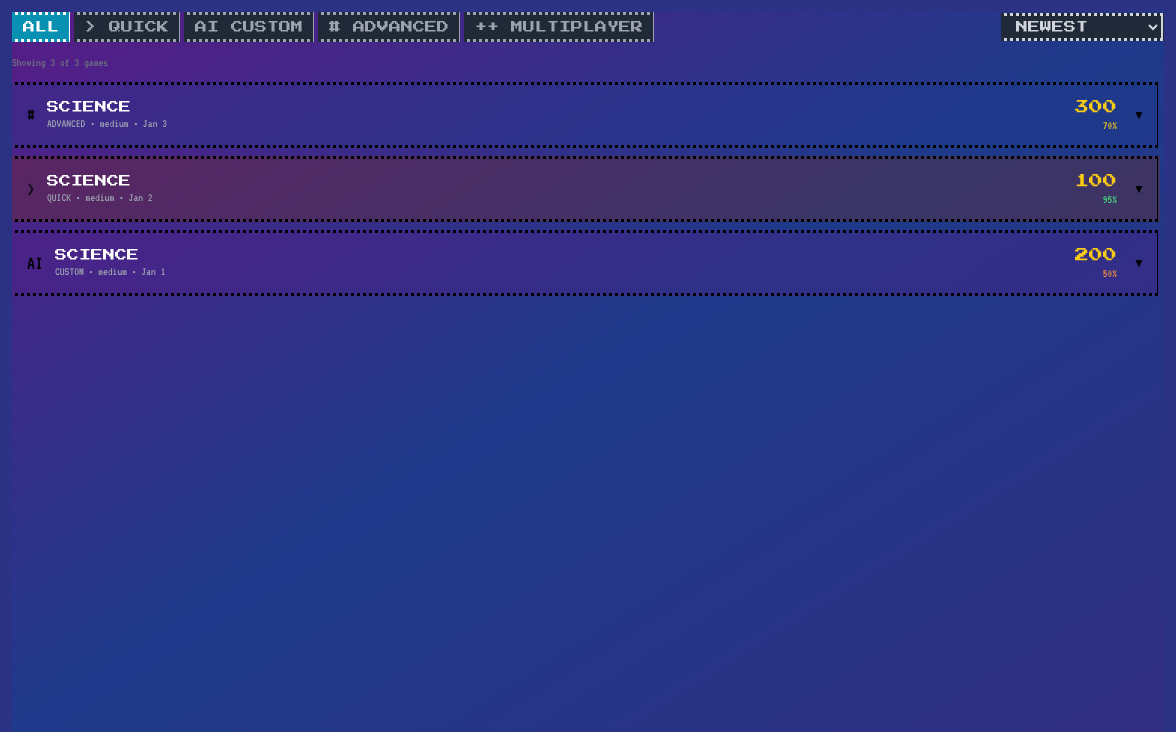
Scenario: GameHistoryList › with entries › shows all when ALL filter selected
Click the button "> QUICK" at (127, 27), box [74,12,180,42]
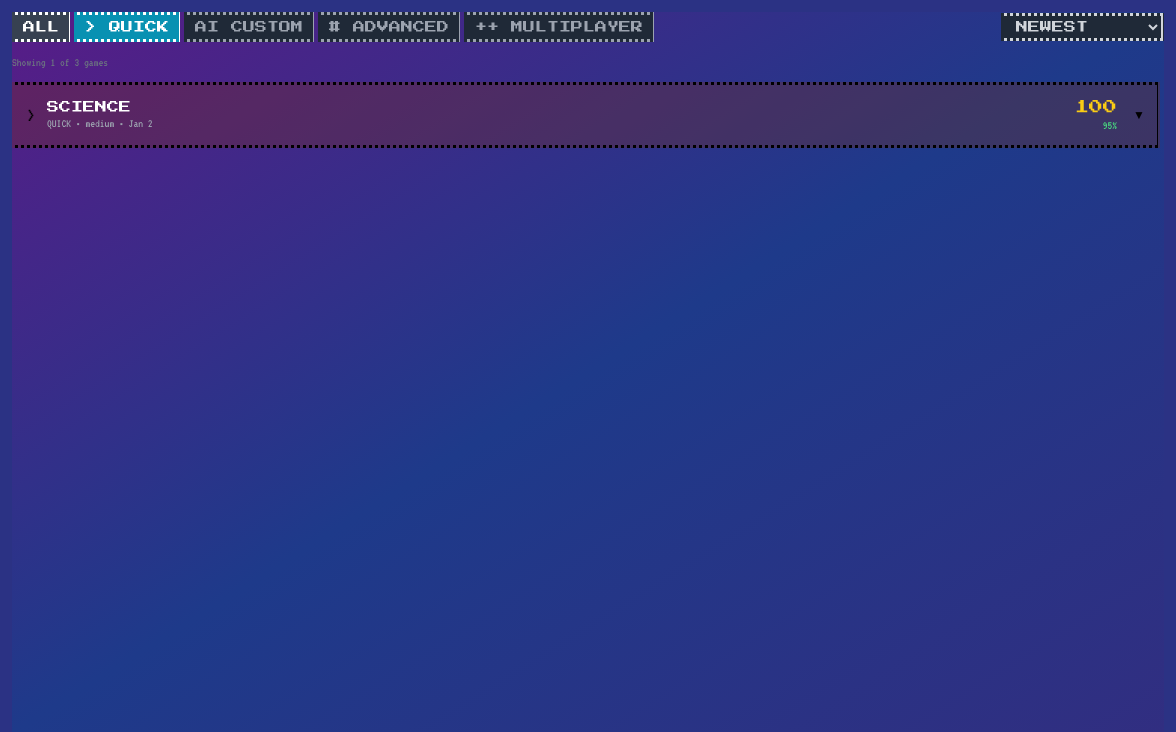
Click the button "ALL" at (41, 27), box [12,12,70,42]
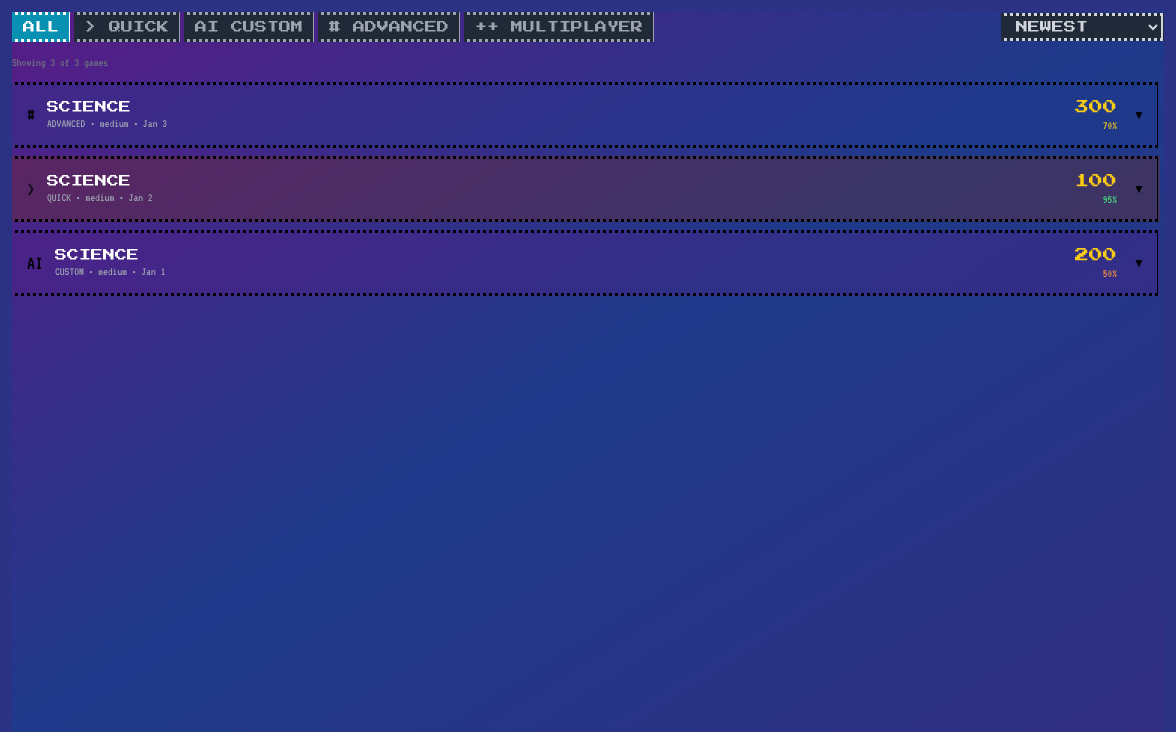
Check: the text "Showing 3 of 3 games" is shown, box [12,56,108,68]
